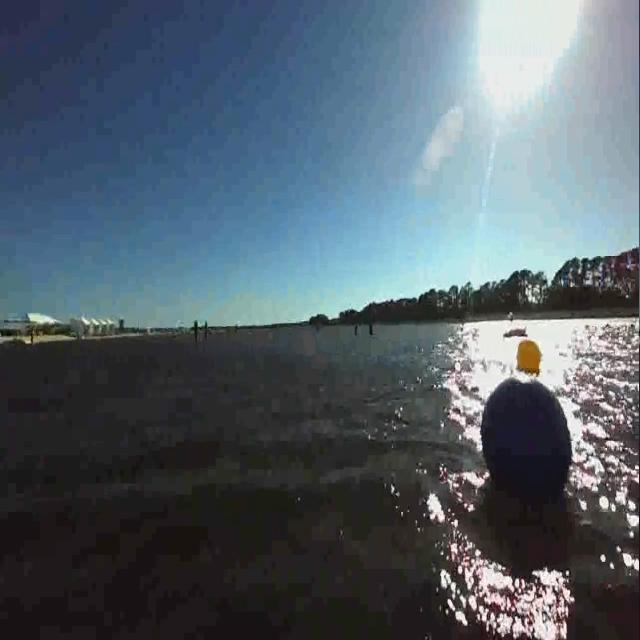black-buoy: (482, 379, 571, 511)
green-column-buoy: (194, 320, 199, 347)
yellow-buoy: (516, 338, 542, 378)
